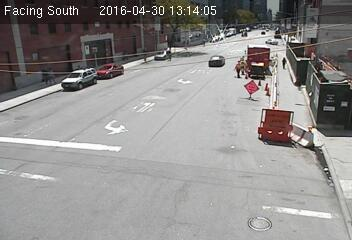neg: (280, 157, 305, 191), (206, 63, 227, 92), (31, 117, 52, 146), (179, 117, 199, 144), (127, 90, 147, 116), (250, 95, 263, 112), (105, 145, 113, 155)
pos: (42, 66, 56, 85), (37, 65, 51, 84), (231, 60, 244, 77), (279, 54, 289, 68)
